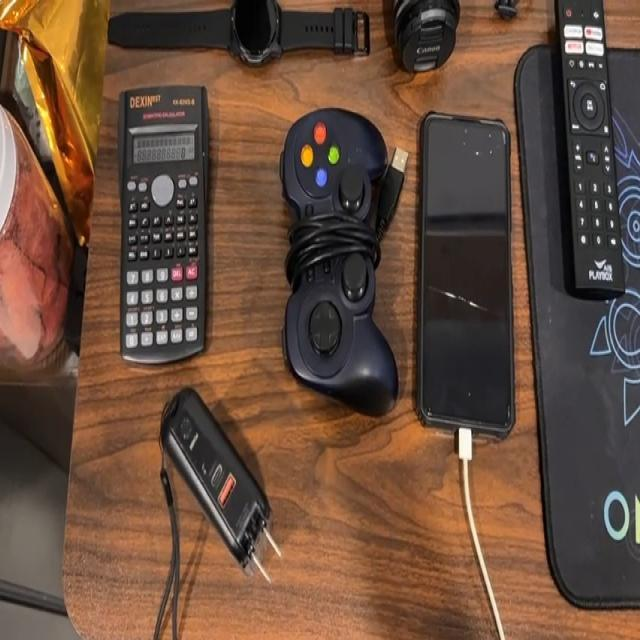calculator: (80, 64, 254, 388)
earphone: (386, 0, 474, 80)
joy stick: (260, 81, 418, 420)
remote: (542, 0, 640, 309)
smart phone: (422, 104, 534, 456)
watch: (91, 0, 386, 61)
